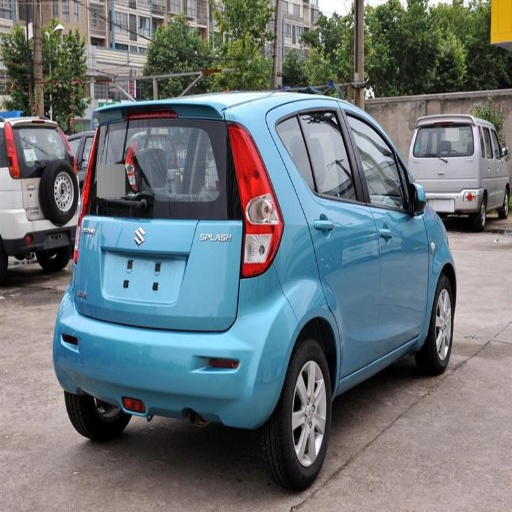back_bumper: (53, 263, 300, 426)
back_right_door: (282, 106, 382, 374)
tailgate: (79, 215, 229, 327)
trunk: (87, 199, 243, 309)
